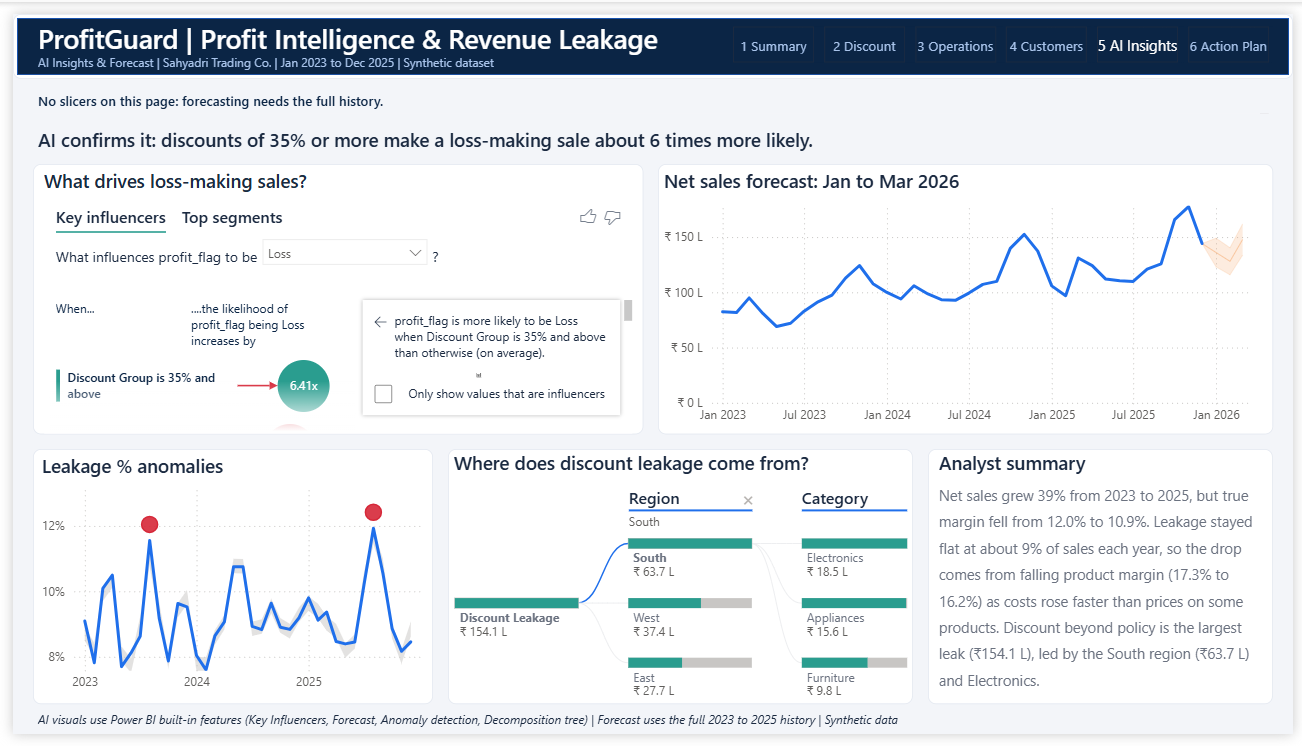

The dashboard page shown, as its layout file describes it:
{"tool":"powerbi","page":{"name":"5 AI Insights","canvas":[1280,720],"ordinal":4},"visuals":[{"type":"shape","box":[0,0,1280,65],"z":0},{"type":"textbox","title":"ProfitGuard | Profit Intelligence & Revenue Leakage","box":[20,6,720,38],"z":1000},{"type":"textbox","title":"AI Insights & Forecast | Sahyadri Trading Co. | Jan 2023 to Dec 2025 | Synthetic dataset","box":[20.5,40,720,20],"z":2000},{"type":"textbox","title":"AI confirms it: discounts of 35% or more make a loss-making sale about 6 times more likely.","box":[20,112,1240,30],"z":3000},{"type":"textbox","title":"AI visuals use Power BI built-in features (Key Influencers, Forecast, Anomaly detection, Decomposition tree) | Forecast uses the full 2023 to 2025 history | Synthetic data","box":[20,697,1240.2,20],"z":4000},{"type":"pageNavigator","box":[720,12,540,36],"z":5000},{"type":"keyDriversVisual","title":"What drives loss-making sales? ","fields":{"Target":["profitguard vw_line_leakage.profit_flag"],"ExplainBy":["profitguard vw_line_leakage.Discount Group","profitguard dim_product.category","profitguard vw_line_leakage.channel","profitguard vw_line_leakage.discount_approval","profitguard dim_location.region","profitguard dim_customer.segment"]},"box":[20,150,610,270],"z":6000},{"type":"lineChart","title":"Net sales forecast: Jan to Mar 2026","fields":{"Category":["profitguard dim_date.Month Start"],"Y":["Table.Net Sales"]},"box":[645,150,615,270],"z":7000},{"type":"lineChart","title":"Leakage % anomalies","fields":{"Category":["profitguard dim_date.Month Start"],"Y":["Table.Leakage %"]},"box":[20,435,400,255],"z":8000},{"type":"decompositionTreeVisual","title":"Where does discount leakage come from?","fields":{"Analyze":["Table.Discount Leakage"],"ExplainBy":["profitguard dim_location.region","profitguard dim_product.category","profitguard dim_salesperson.salesperson_name","profitguard vw_line_leakage.channel"]},"box":[435,435,465,255],"z":9000},{"type":"textbox","title":"Analyst  summary","box":[915,435,345,255],"z":10000},{"type":"textbox","title":"No slicers on this page: forecasting needs the full history.","box":[20.5,75,1240,25],"z":11000}]}

Visuals, with their boxes in screenshot pixels (x1, y1, x2, y2), scaled from the page's 1280x720 canvas onto the 1302x746 screenshot:
shape: left=0, top=0, right=1301, bottom=67
"ProfitGuard | Profit Intelligence & Revenue Leakage" textbox: left=20, top=6, right=753, bottom=46
"AI Insights & Forecast | Sahyadri Trading Co. | Jan 2023 to Dec 2025 | Synthetic dataset" textbox: left=21, top=41, right=753, bottom=62
"AI confirms it: discounts of 35% or more make a loss-making sale about 6 times more likely." textbox: left=20, top=116, right=1282, bottom=147
"AI visuals use Power BI built-in features (Key Influencers, Forecast, Anomaly detection, Decomposition tree) | Forecast uses the full 2023 to 2025 history | Synthetic data" textbox: left=20, top=722, right=1282, bottom=743
pageNavigator: left=732, top=12, right=1282, bottom=50
"What drives loss-making sales? " keyDriversVisual: left=20, top=155, right=641, bottom=435
"Net sales forecast: Jan to Mar 2026" lineChart: left=656, top=155, right=1282, bottom=435
"Leakage % anomalies" lineChart: left=20, top=451, right=427, bottom=715
"Where does discount leakage come from?" decompositionTreeVisual: left=442, top=451, right=915, bottom=715
"Analyst  summary" textbox: left=931, top=451, right=1282, bottom=715
"No slicers on this page: forecasting needs the full history." textbox: left=21, top=78, right=1282, bottom=104
